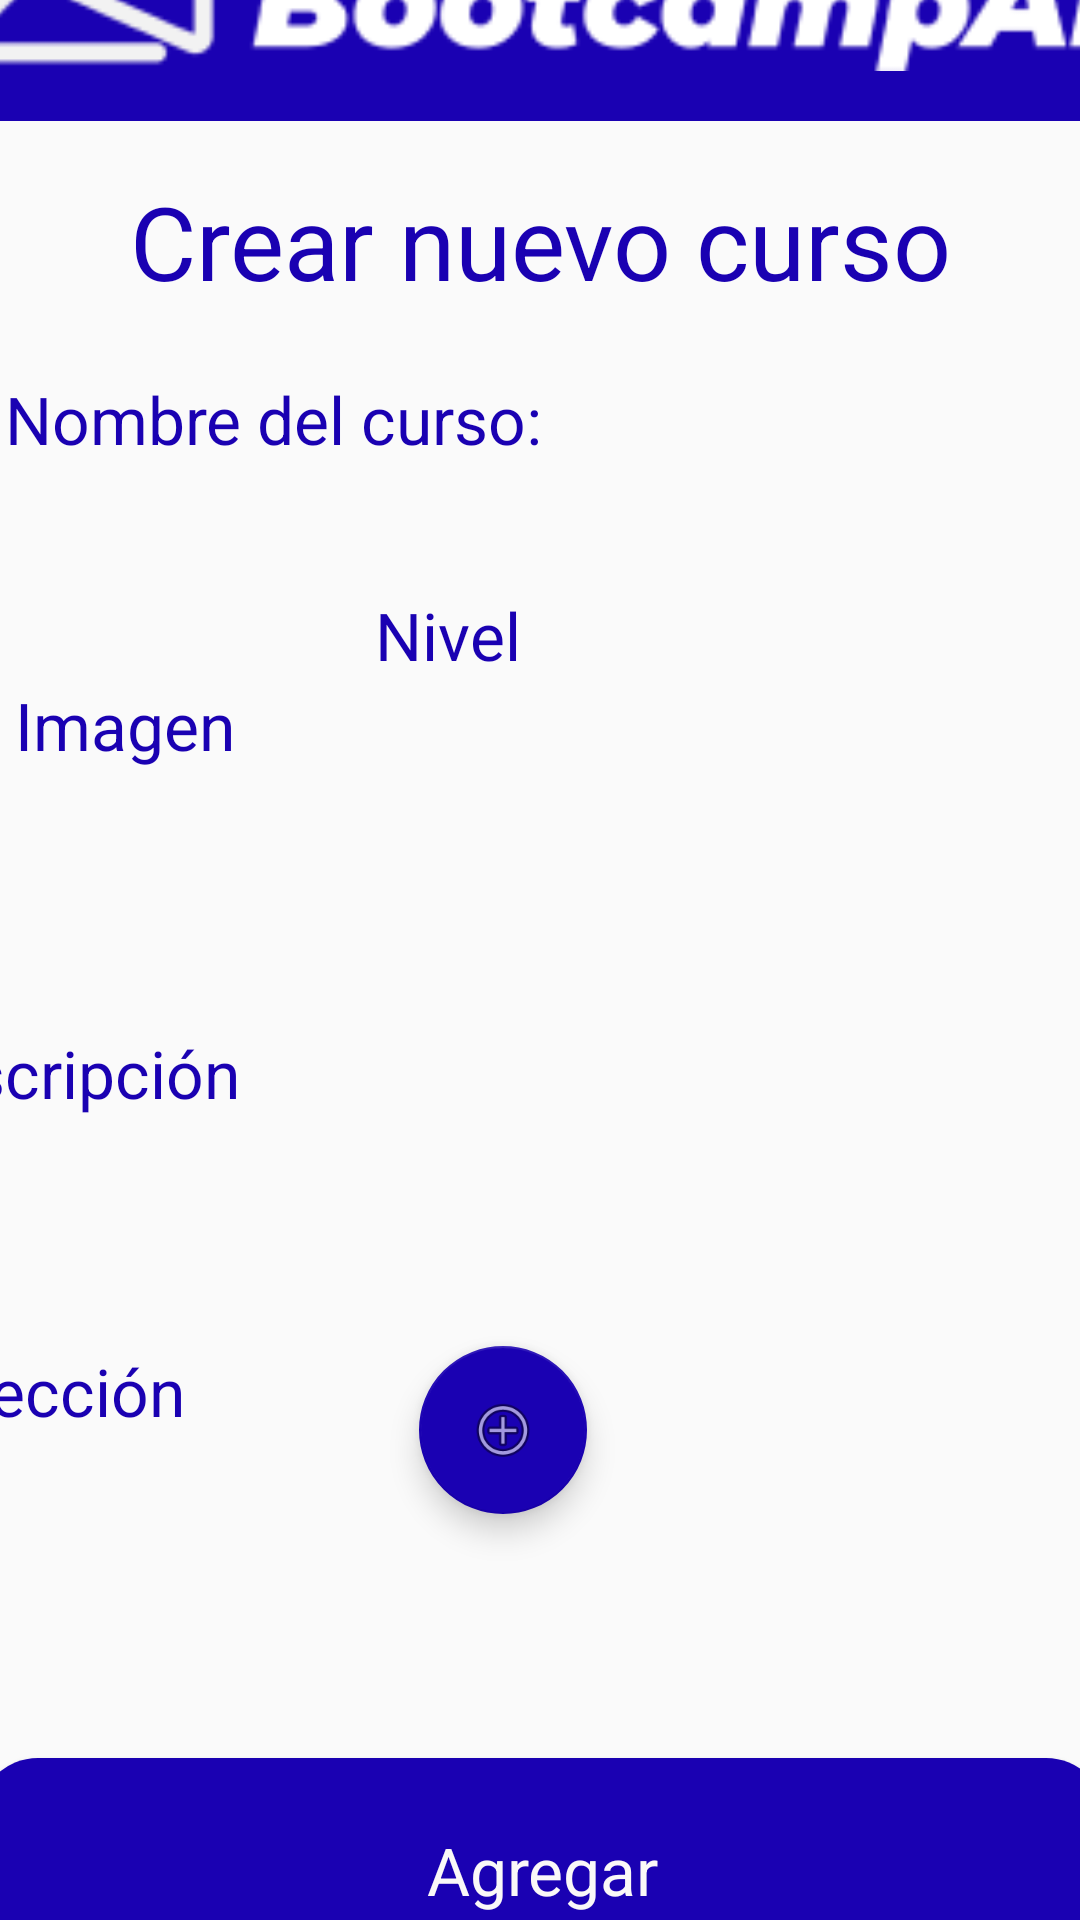

Icon click points for this 1080*1920 phone screenshot, format point (x, y):
add: point (503, 1430)
